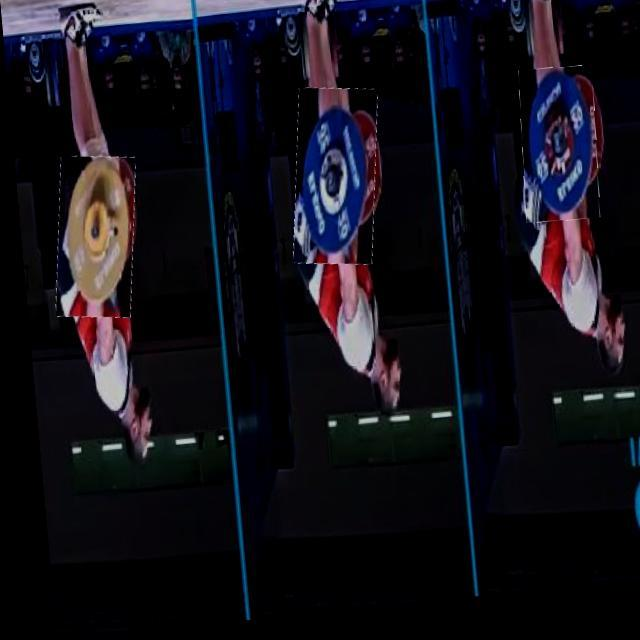barbell: (283, 92, 383, 277), (45, 155, 139, 324), (514, 77, 599, 236)
